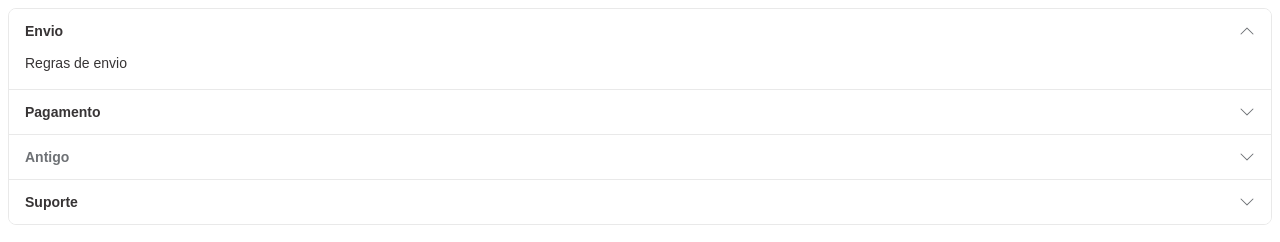
Test: Accordion › mantem apenas uma secao aberta por padrao
Click the button "Pagamento".
click(63, 112)  # box top-left (9, 90), bottom-right (1271, 134)
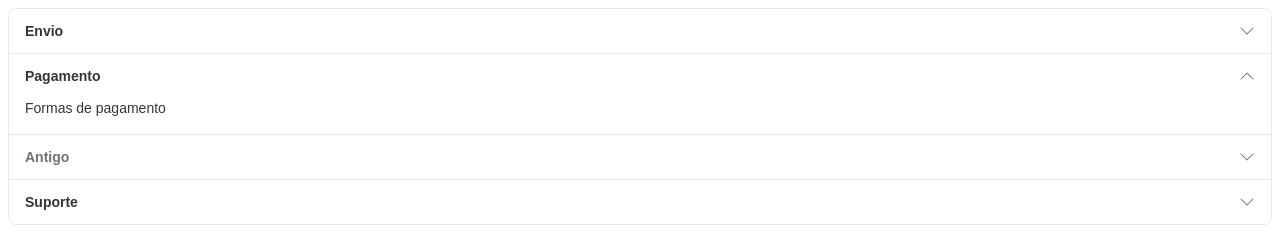
Expected: the button "Envio" is collapsed, top-left (9, 9), bottom-right (1271, 53)
Expected: the button "Pagamento" is expanded, top-left (9, 54), bottom-right (1271, 98)
